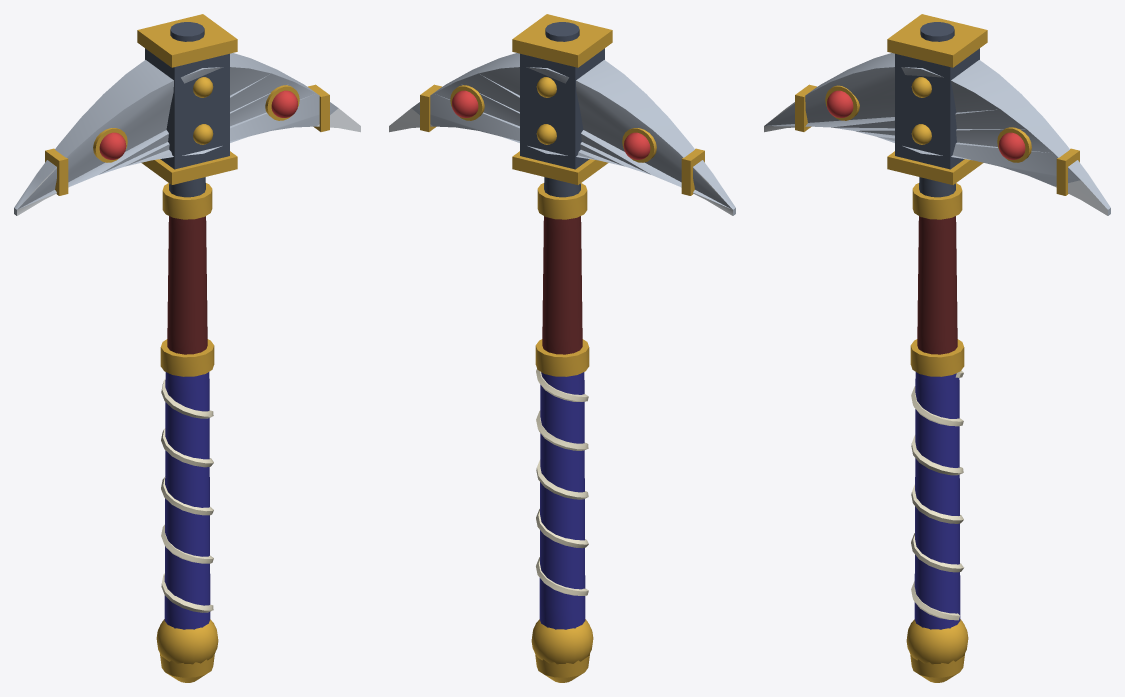
The picture shows the model from 3 angles, left to right: view 1: azimuth 30°, elevation 25°; view 2: azimuth 150°, elevation 25°; view 3: azimuth 330°, elevation 25°; orthographic projection.
Parts seen in each view (by area): view 1: body; view 2: body; view 3: body.
Boxes of the visible parts, <box> form: body: <box>14,14,360,682</box>; body: <box>389,14,735,682</box>; body: <box>764,14,1110,682</box>.
Bounding box in the file's own units: 0.46 × 0.83 × 0.0944.
Materials: 1 (1 with a texture image).
